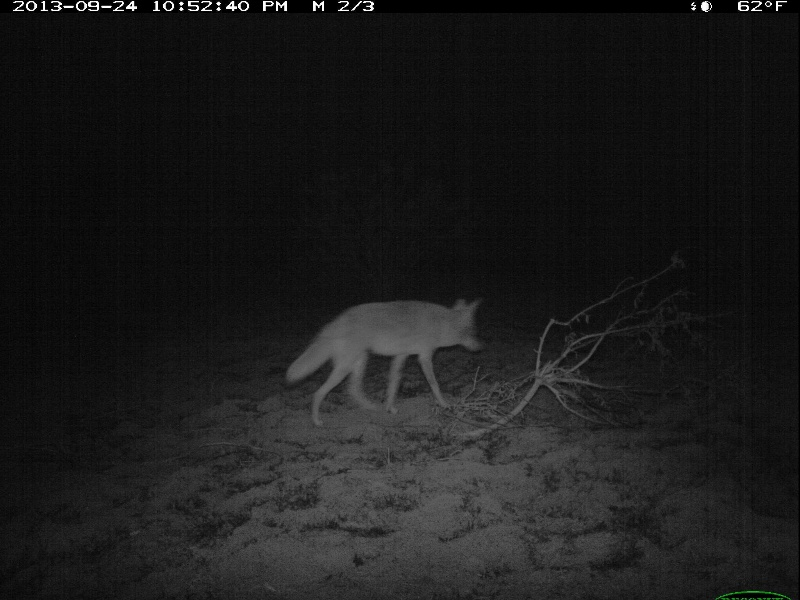coyote: (283, 295, 486, 430)
